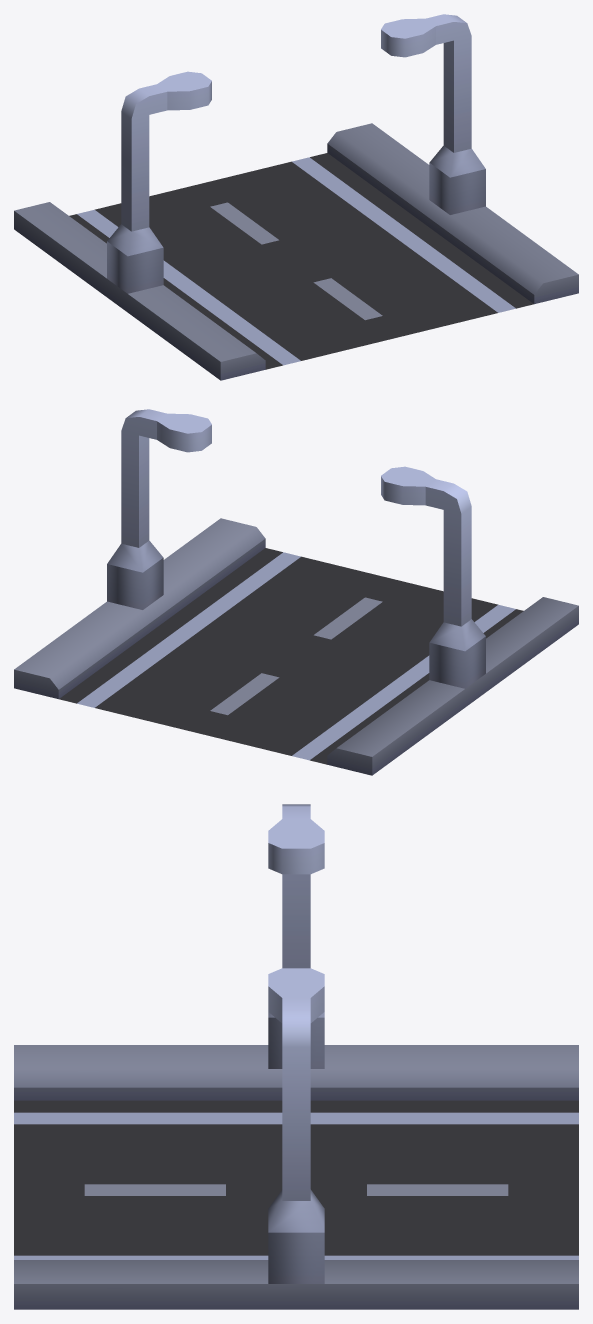
Rendered from road-straight-lightposts.glb.
3 views of the same model, one above another, from view 1: azimuth 30°, elevation 25°; view 2: azimuth 150°, elevation 25°; view 3: azimuth 270°, elevation 25° (orthographic). The views are drawn at different scales.
Visible parts, largest first — view 1: road-straight-lightposts; view 2: road-straight-lightposts; view 3: road-straight-lightposts.
Boxes of the visible parts, left/top/right/bottom form: road-straight-lightposts: left=14, top=14, right=578, bottom=380; road-straight-lightposts: left=14, top=409, right=578, bottom=775; road-straight-lightposts: left=14, top=804, right=578, bottom=1309.
Size of the model in its own units: 1 by 0.55 by 1.
Materials: 1 (1 with a texture image).
